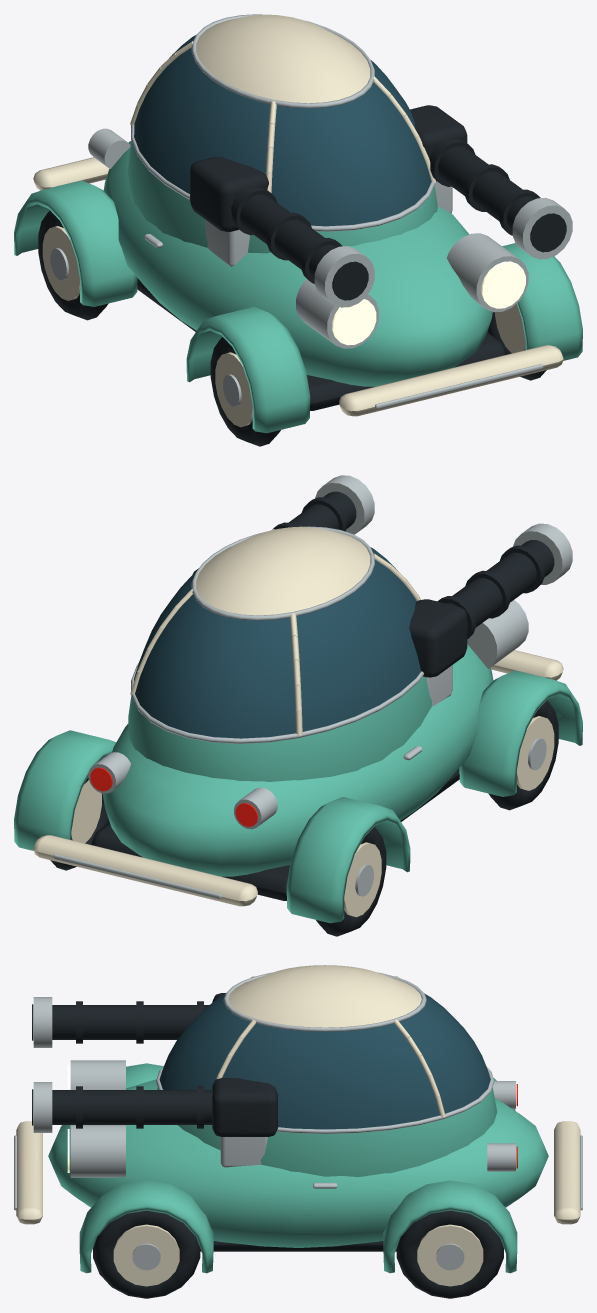
Rendered from bubble-driving.glb.
3 views of the same model, one above another, from view 1: azimuth 30°, elevation 25°; view 2: azimuth 150°, elevation 25°; view 3: azimuth 270°, elevation 25° (orthographic). The views are drawn at different scales.
Parts seen in each view (by area): view 1: canopy, fender_left, bonnet, gun_left, roof, door_left, gun_right, body, lights_front, bumper_front, fender_right, wheel_fl (+5 smaller); view 2: canopy, fender_left, boot, roof, gun_left, door_left, body, fender_right, bumper_rear, gun_right, wheel_rl, wheel_fl (+4 smaller); view 3: canopy, door_right, gun_right, fender_right, roof, body, wheel_fr, wheel_rr, gun_left, lights_front, boot, bonnet (+4 smaller).
Boxes of the visible parts, bbox=[...] form: canopy: bbox=[128, 14, 437, 253]; fender_left: bbox=[14, 180, 310, 433]; bonnet: bbox=[302, 220, 492, 358]; gun_left: bbox=[190, 156, 374, 307]; roof: bbox=[196, 14, 370, 103]; door_left: bbox=[105, 164, 303, 346]; gun_right: bbox=[410, 105, 572, 259]; body: bbox=[119, 241, 505, 410]; lights_front: bbox=[296, 233, 528, 348]; bumper_front: bbox=[339, 345, 563, 416]; fender_right: bbox=[502, 243, 582, 360]; wheel_fl: bbox=[210, 337, 280, 446]; canopy: bbox=[128, 526, 431, 781]; fender_left: bbox=[286, 670, 582, 923]; boot: bbox=[103, 740, 294, 848]; roof: bbox=[196, 526, 370, 615]; gun_left: bbox=[409, 523, 572, 706]; door_left: bbox=[293, 653, 491, 836]; body: bbox=[91, 731, 477, 900]; fender_right: bbox=[14, 730, 115, 850]; bumper_rear: bbox=[33, 835, 257, 906]; gun_right: bbox=[192, 475, 374, 574]; wheel_rl: bbox=[316, 827, 386, 936]; wheel_fl: bbox=[488, 700, 558, 810]; canopy: bbox=[156, 972, 497, 1177]; door_right: bbox=[125, 1128, 471, 1214]; gun_right: bbox=[32, 1078, 277, 1167]; fender_right: bbox=[79, 1180, 517, 1273]; roof: bbox=[228, 965, 421, 1027]; body: bbox=[53, 1168, 543, 1251]; wheel_fr: bbox=[93, 1210, 200, 1298]; wheel_rr: bbox=[396, 1210, 503, 1298]; gun_left: bbox=[32, 993, 225, 1047]; lights_front: bbox=[67, 1060, 125, 1177]; boot: bbox=[450, 1098, 548, 1192]; bonnet: bbox=[48, 1079, 180, 1192].
Bounding box in the file's own units: 1.62 × 1.43 × 2.77.
